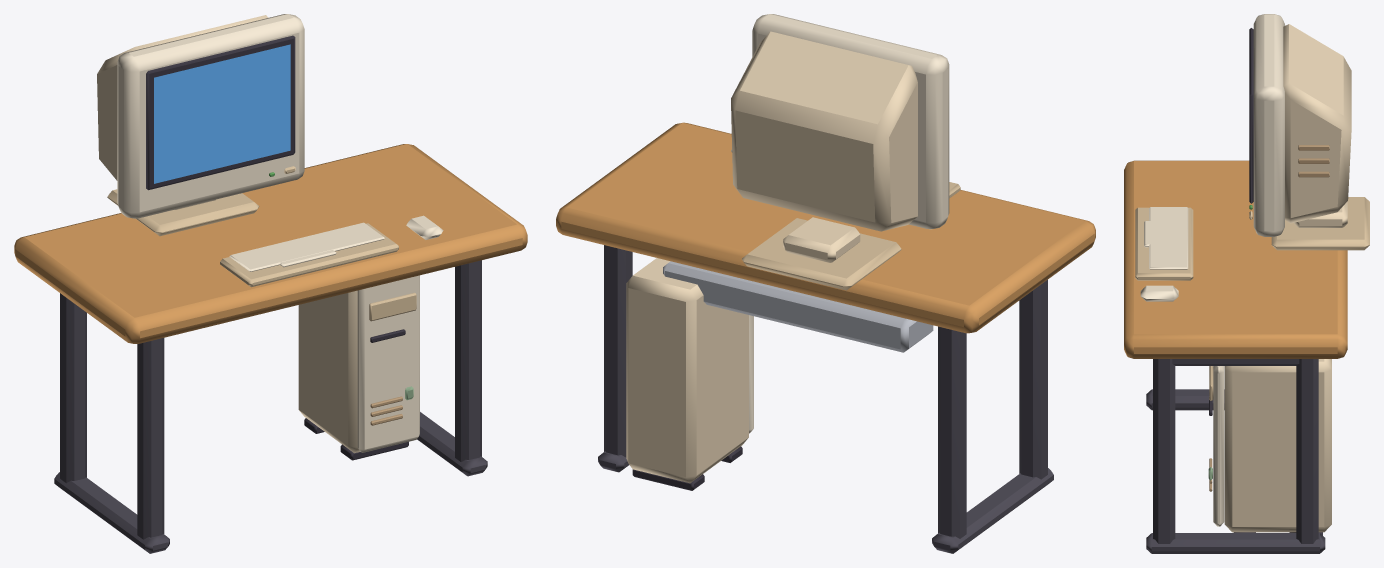
Rendered from era_crt_desk.glb.
3 renders of one model, left to right at view 1: azimuth 30°, elevation 25°; view 2: azimuth 150°, elevation 25°; view 3: azimuth 270°, elevation 25°, orthographic. The views are drawn at different scales.
Parts seen in each view (by area): view 1: era_crt_desk, crt_screen; view 2: era_crt_desk; view 3: era_crt_desk.
Part boxes in pixels (left/top/right/bottom): era_crt_desk: left=14, top=14, right=527, bottom=553; crt_screen: left=154, top=44, right=290, bottom=183; era_crt_desk: left=556, top=14, right=1095, bottom=553; era_crt_desk: left=1124, top=14, right=1369, bottom=553.
Size of the model in its own units: 0.96 by 1.01 by 0.55.
